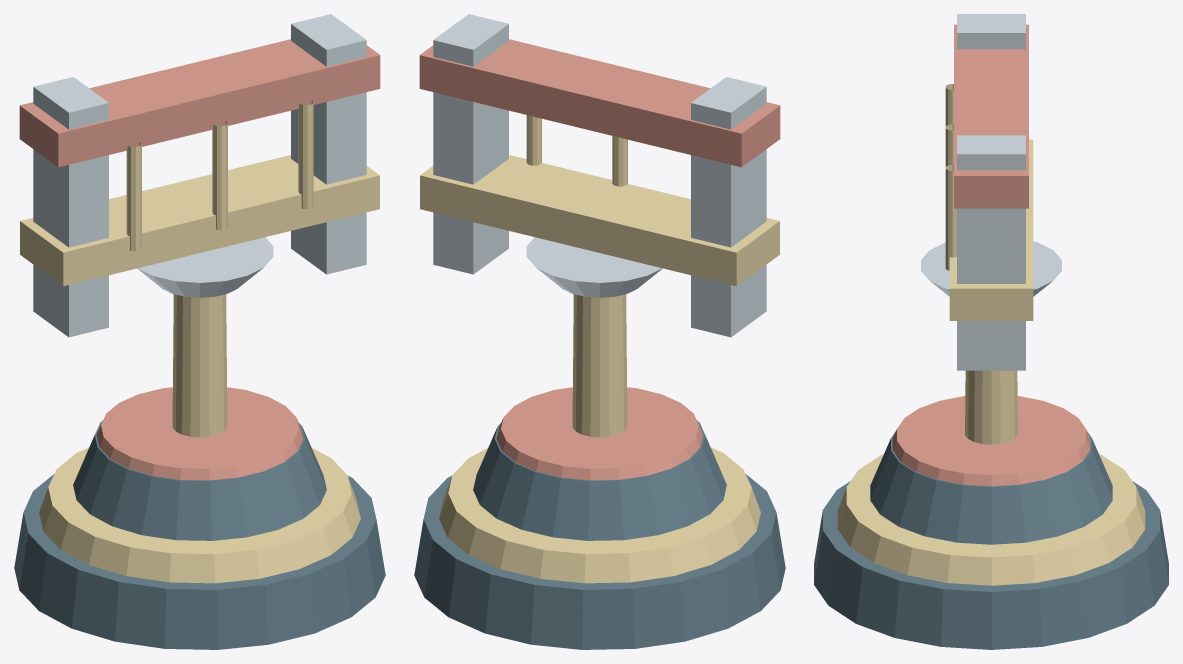
File: red-river.glb
3 views of the same model, side by side, from view 1: azimuth 30°, elevation 25°; view 2: azimuth 150°, elevation 25°; view 3: azimuth 270°, elevation 25° (orthographic). The views are drawn at different scales.
Bounding box in the file's own units: 1.2 × 1.81 × 1.19.
